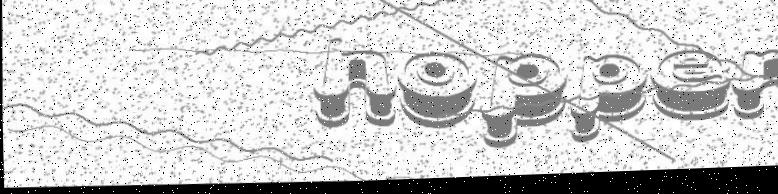e: (643, 50, 733, 131)
h: (305, 30, 401, 144)
o: (392, 46, 475, 138)
p: (479, 49, 569, 156), (564, 52, 648, 148)
r: (728, 48, 778, 136)
